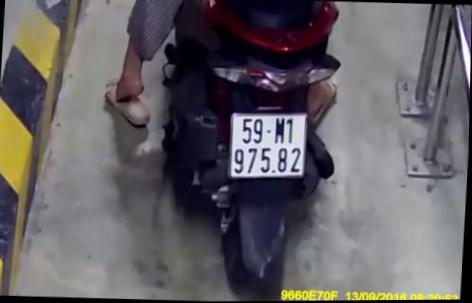LP: (226, 110, 312, 184)
